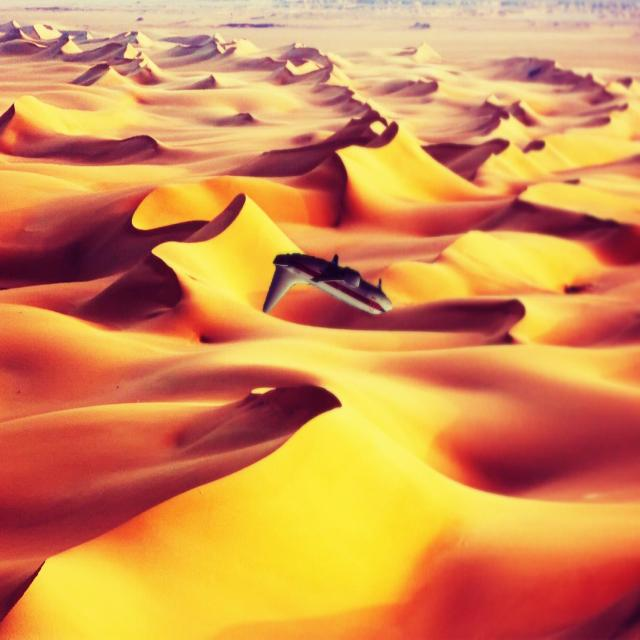airplane: (262, 249, 393, 317)
